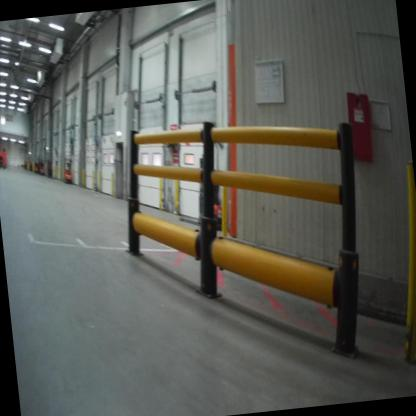pallet_truck: (167, 154, 227, 237)
